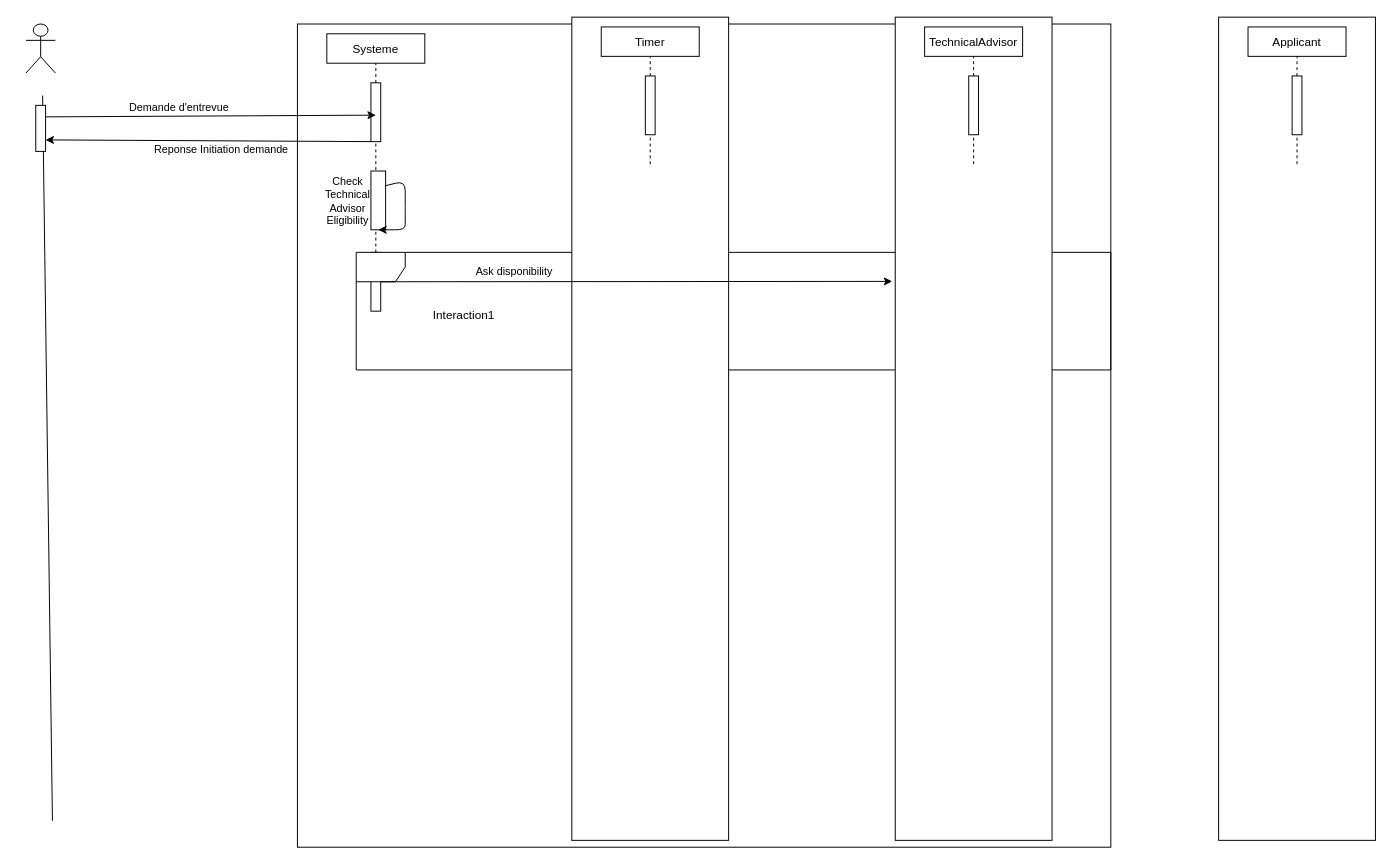
Some shapes in this 1393 by 864 pixel diagram are drawn without their labels. The centre of each missing label's shape, as x and y in pixels:
Recruiter: [40,48]
ref: [733,310]
